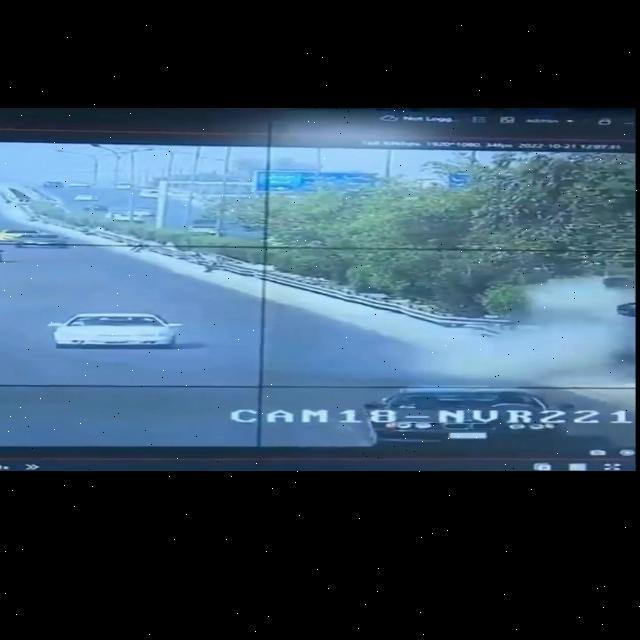accident: (515, 259, 640, 368)
non_accident: (3, 216, 77, 261)
